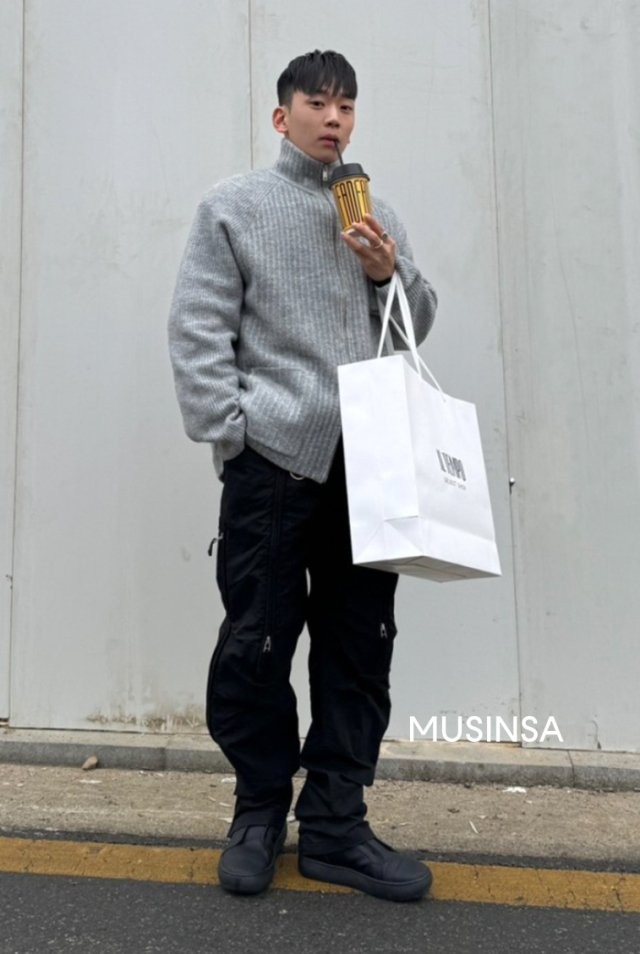Bag: (330, 273, 506, 594)
Outer: (166, 130, 442, 482)
Pants: (205, 443, 389, 802)
Shoes: (217, 802, 438, 914)
